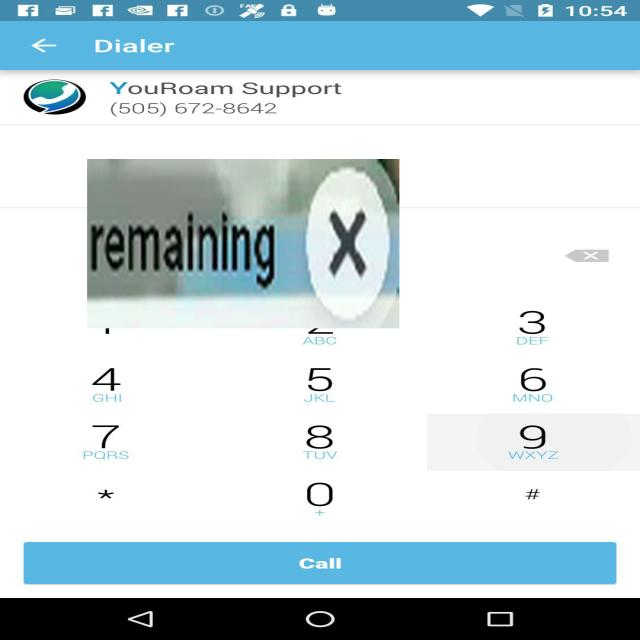misdirection: (87, 159, 400, 328)
